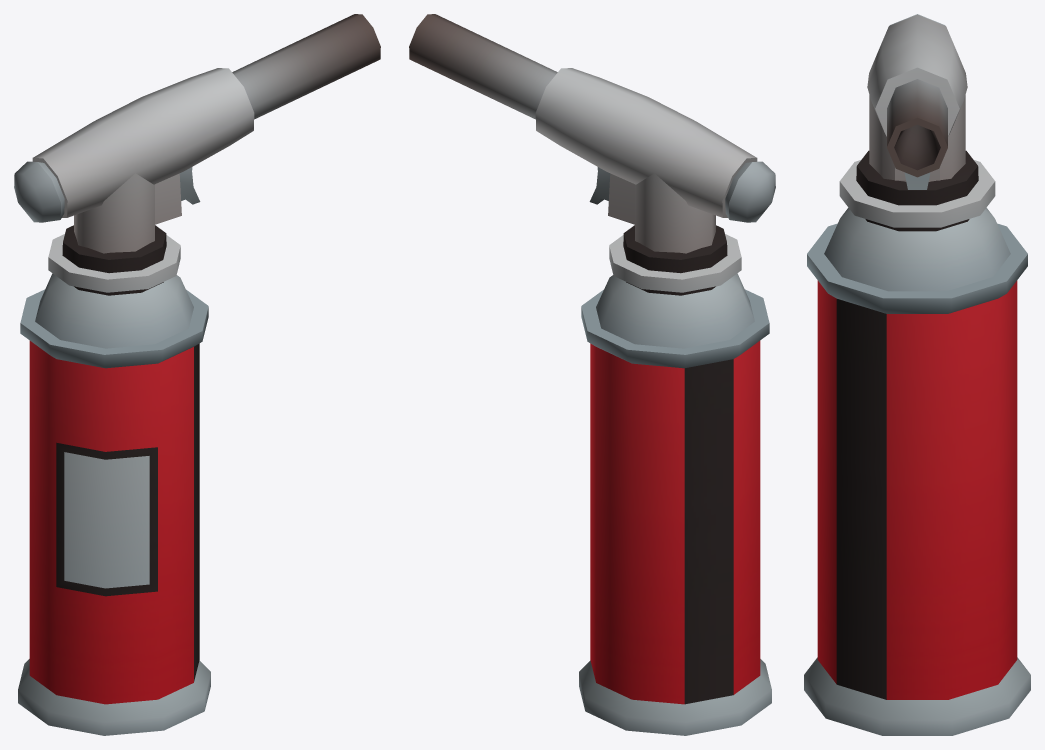
The model's file is Gas_Burner.fbx.
3 views of the same model, side by side, from view 1: azimuth 30°, elevation 25°; view 2: azimuth 150°, elevation 25°; view 3: azimuth 270°, elevation 25° (orthographic). The views are drawn at different scales.
Parts seen in each view (by area): view 1: Gas_Burner; view 2: Gas_Burner; view 3: Gas_Burner.
Boxes of the visible parts, <box> form: Gas_Burner: <box>14,14,380,735</box>; Gas_Burner: <box>409,14,775,735</box>; Gas_Burner: <box>804,14,1030,735</box>.
Size of the model in its own units: 23.69 by 11.43 by 39.58.
